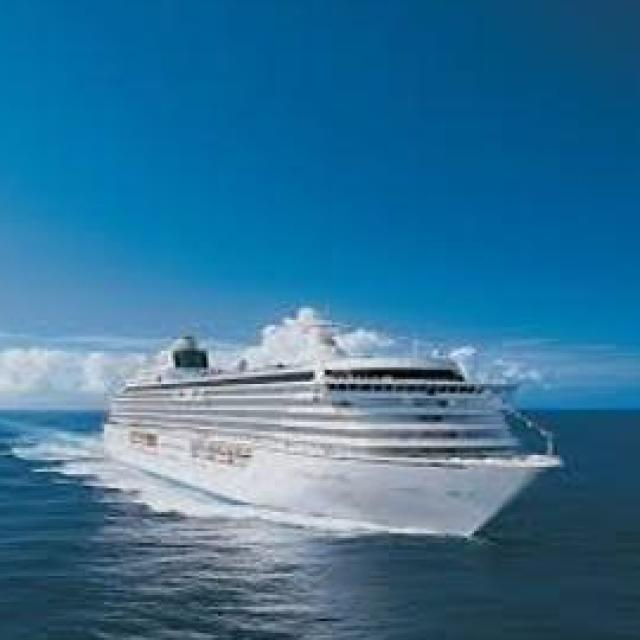passenger ship: (91, 312, 560, 536)
